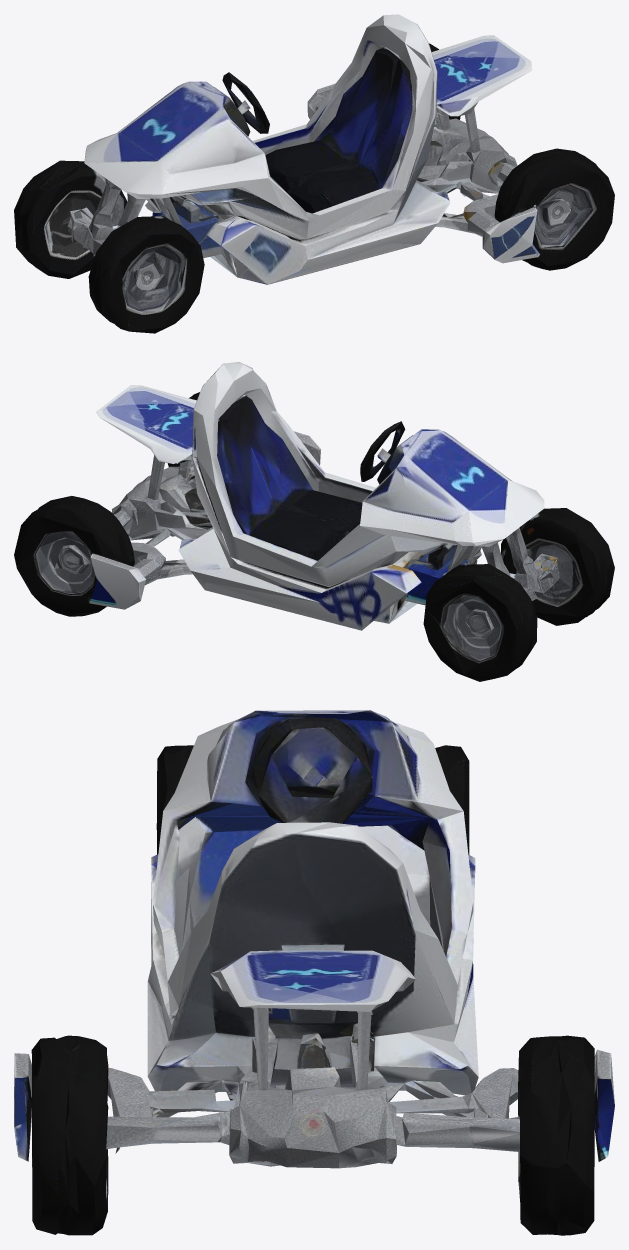
Rendered from kart-pengu-gloss.glb.
3 renders of one model, top to bottom at view 1: azimuth 30°, elevation 25°; view 2: azimuth 150°, elevation 25°; view 3: azimuth 270°, elevation 25°, orthographic. The views are drawn at different scales.
Bounding box in the file's own units: 1.9 × 0.794 × 1.27.
1 material, 1 textured.
